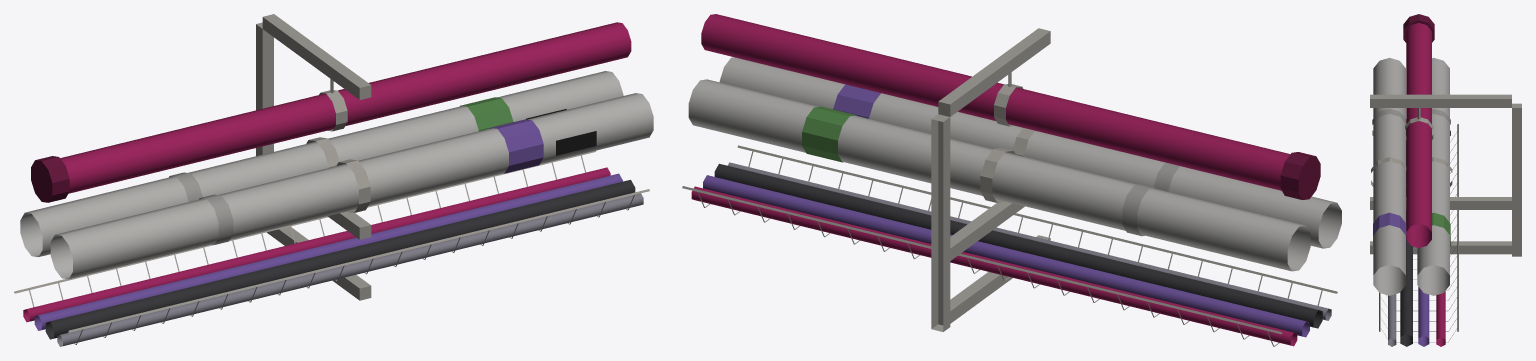
The model's file is pipe_run_2.glb.
The picture shows the model from 3 angles, left to right: view 1: azimuth 30°, elevation 25°; view 2: azimuth 150°, elevation 25°; view 3: azimuth 270°, elevation 25°; orthographic projection. The views are drawn at different scales.
Parts seen in each view (by area): view 1: pipe_run_2; view 2: pipe_run_2; view 3: pipe_run_2.
Part boxes in pixels (left/top/right/bottom): pipe_run_2: left=14, top=14, right=653, bottom=346; pipe_run_2: left=682, top=14, right=1341, bottom=346; pipe_run_2: left=1370, top=14, right=1521, bottom=346.
Size of the model in its own units: 2 by 0.71 by 0.62.
